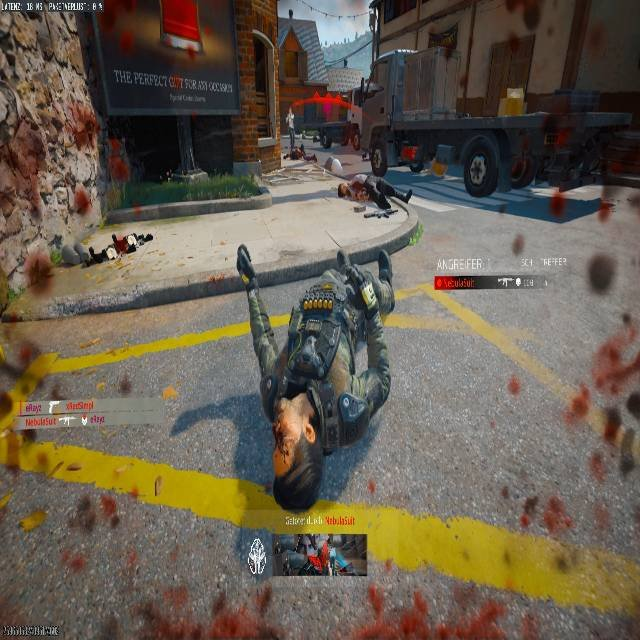head: (336, 182, 351, 198)
player: (571, 306, 640, 485)
